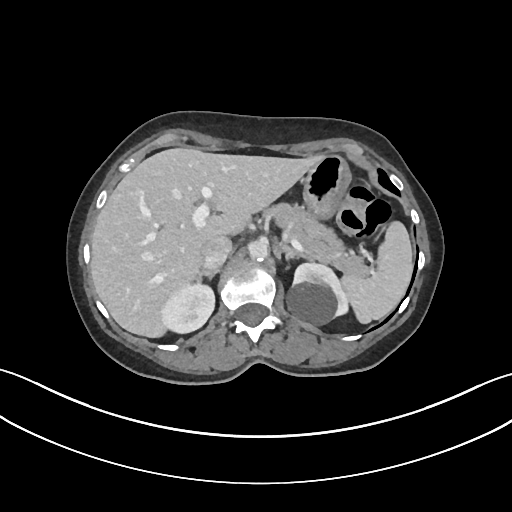Lesion: (284, 280, 341, 327)
